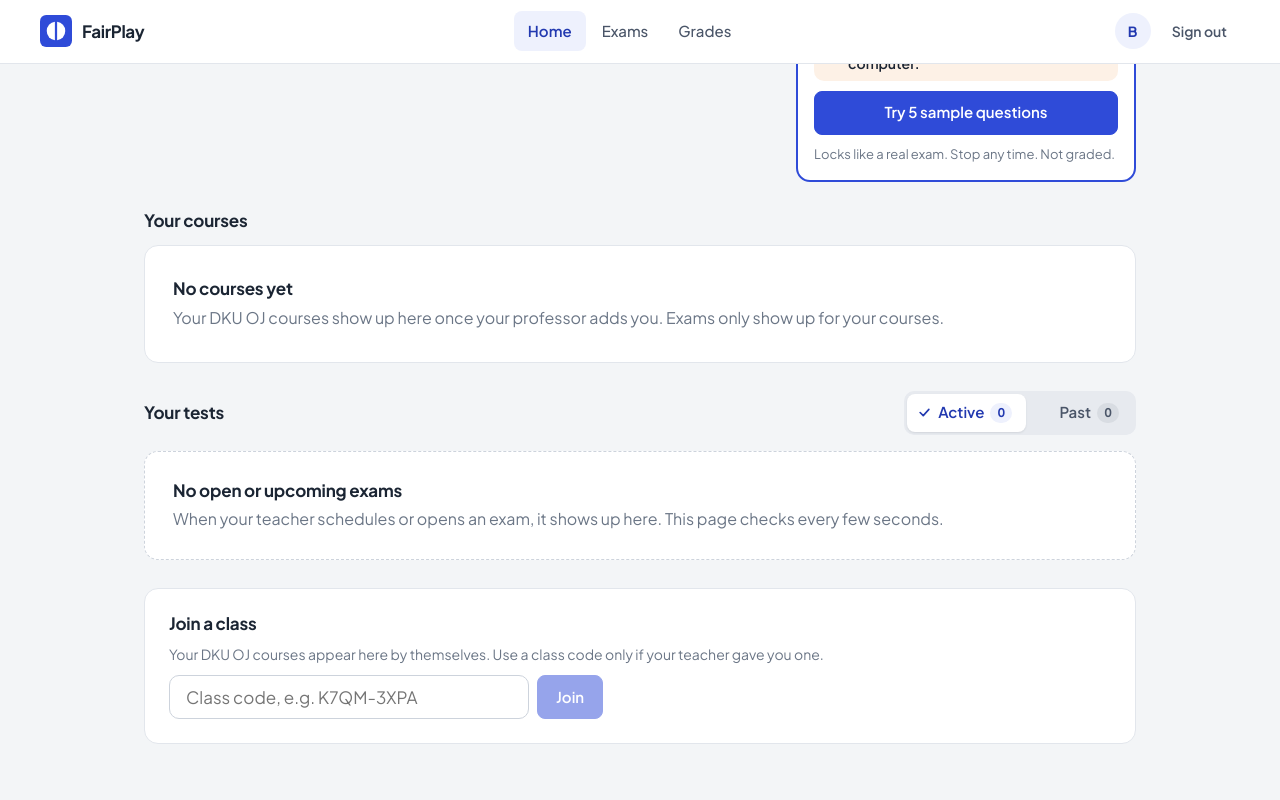
Test: join another class › shows the server's error inline
The image size is (1280, 800).
Step 1. Type "AAAABBBB" into the field labelled "Class code" → [349, 697], box [169,675,529,719]
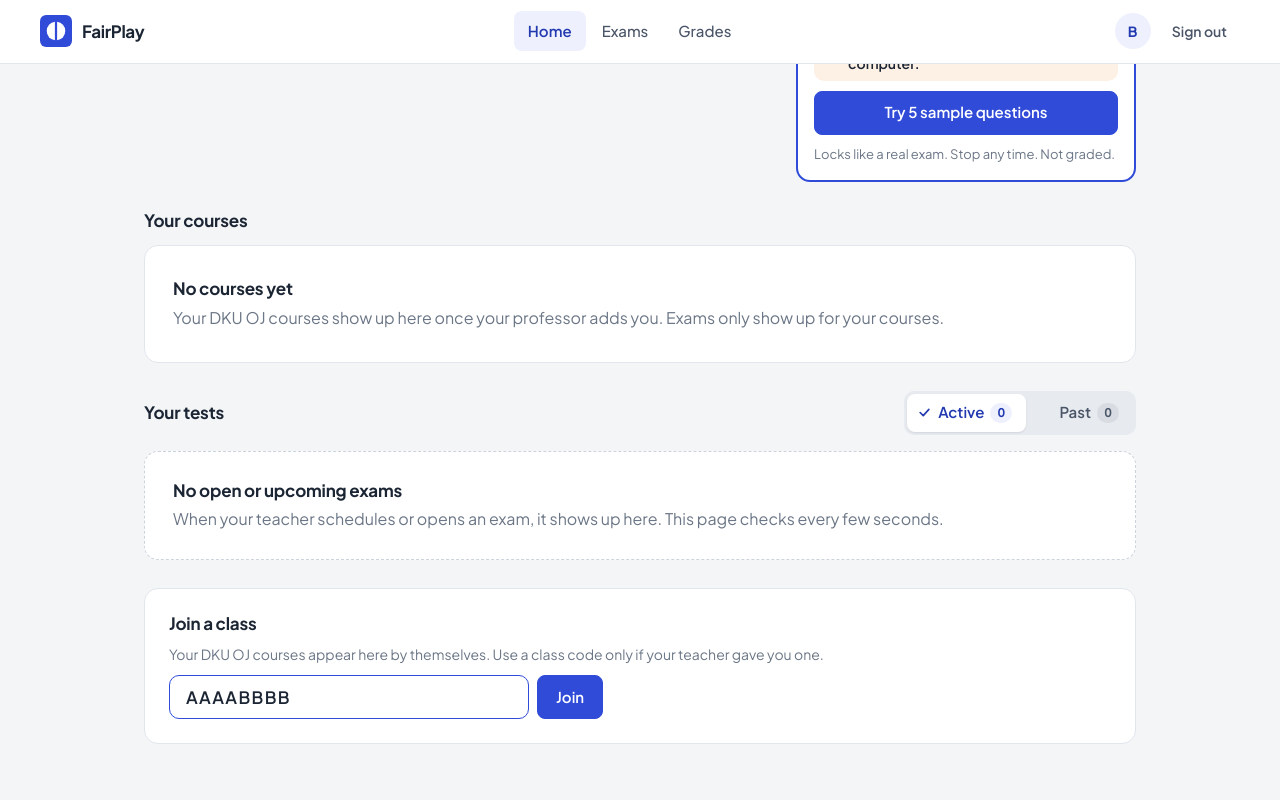
Step 2. Click the button "Join" → [570, 697], box [537,675,603,719]
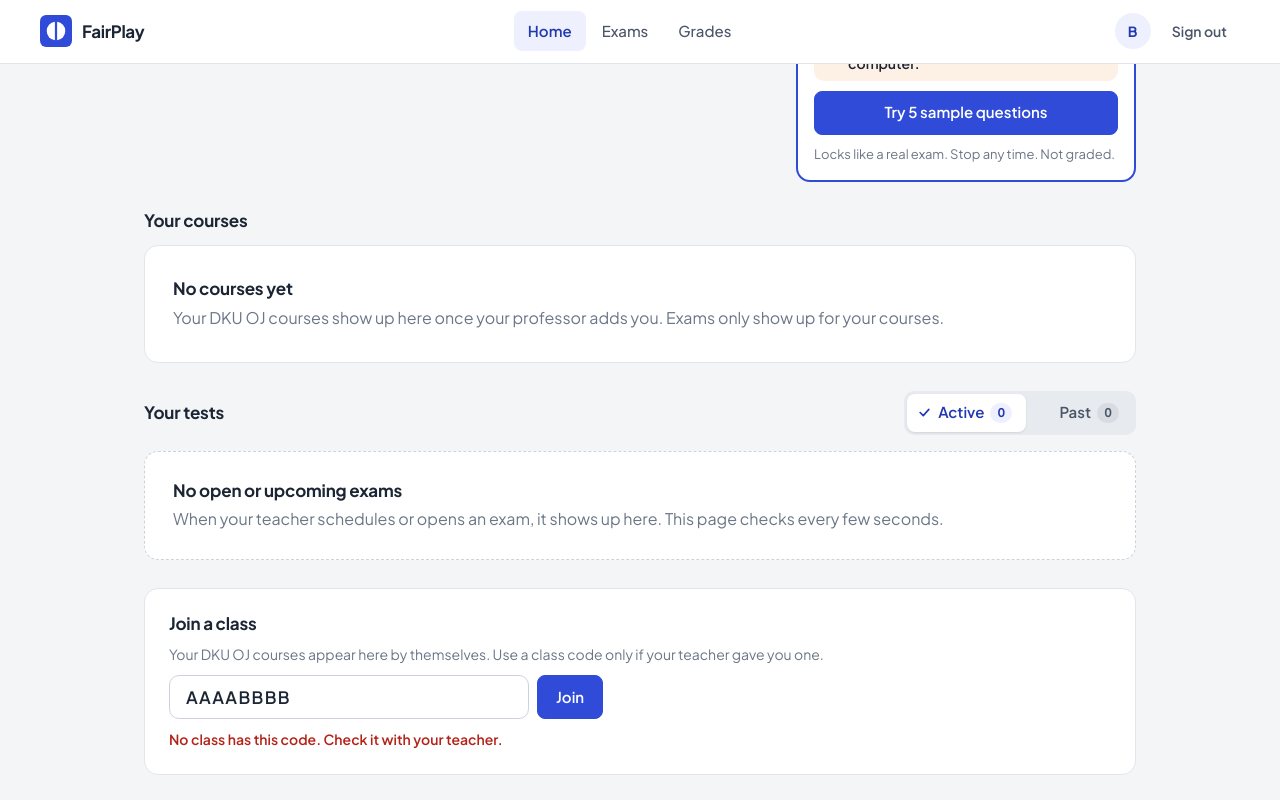
expect the message reads "No class has this code. Check it with your teacher.": met, box [169,730,503,748]
